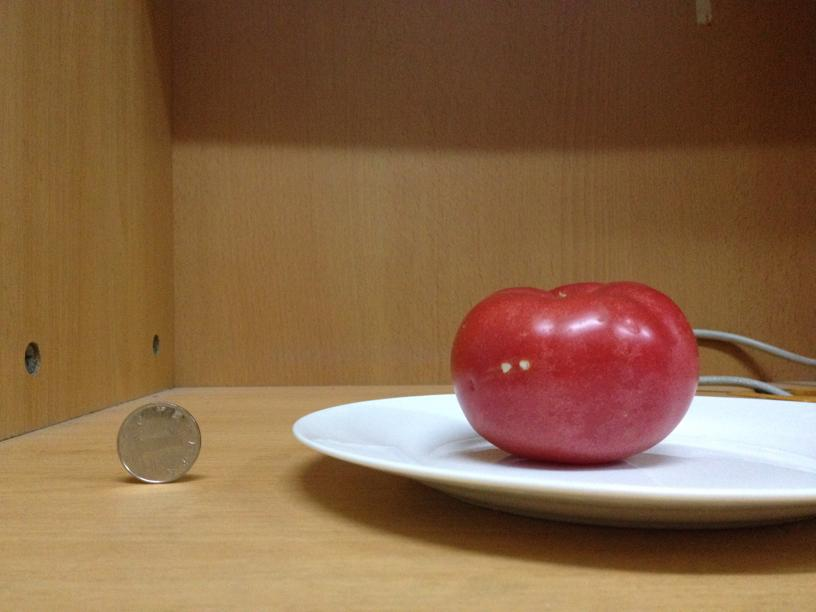coin: (117, 405, 203, 482)
tomato: (455, 276, 700, 464)
